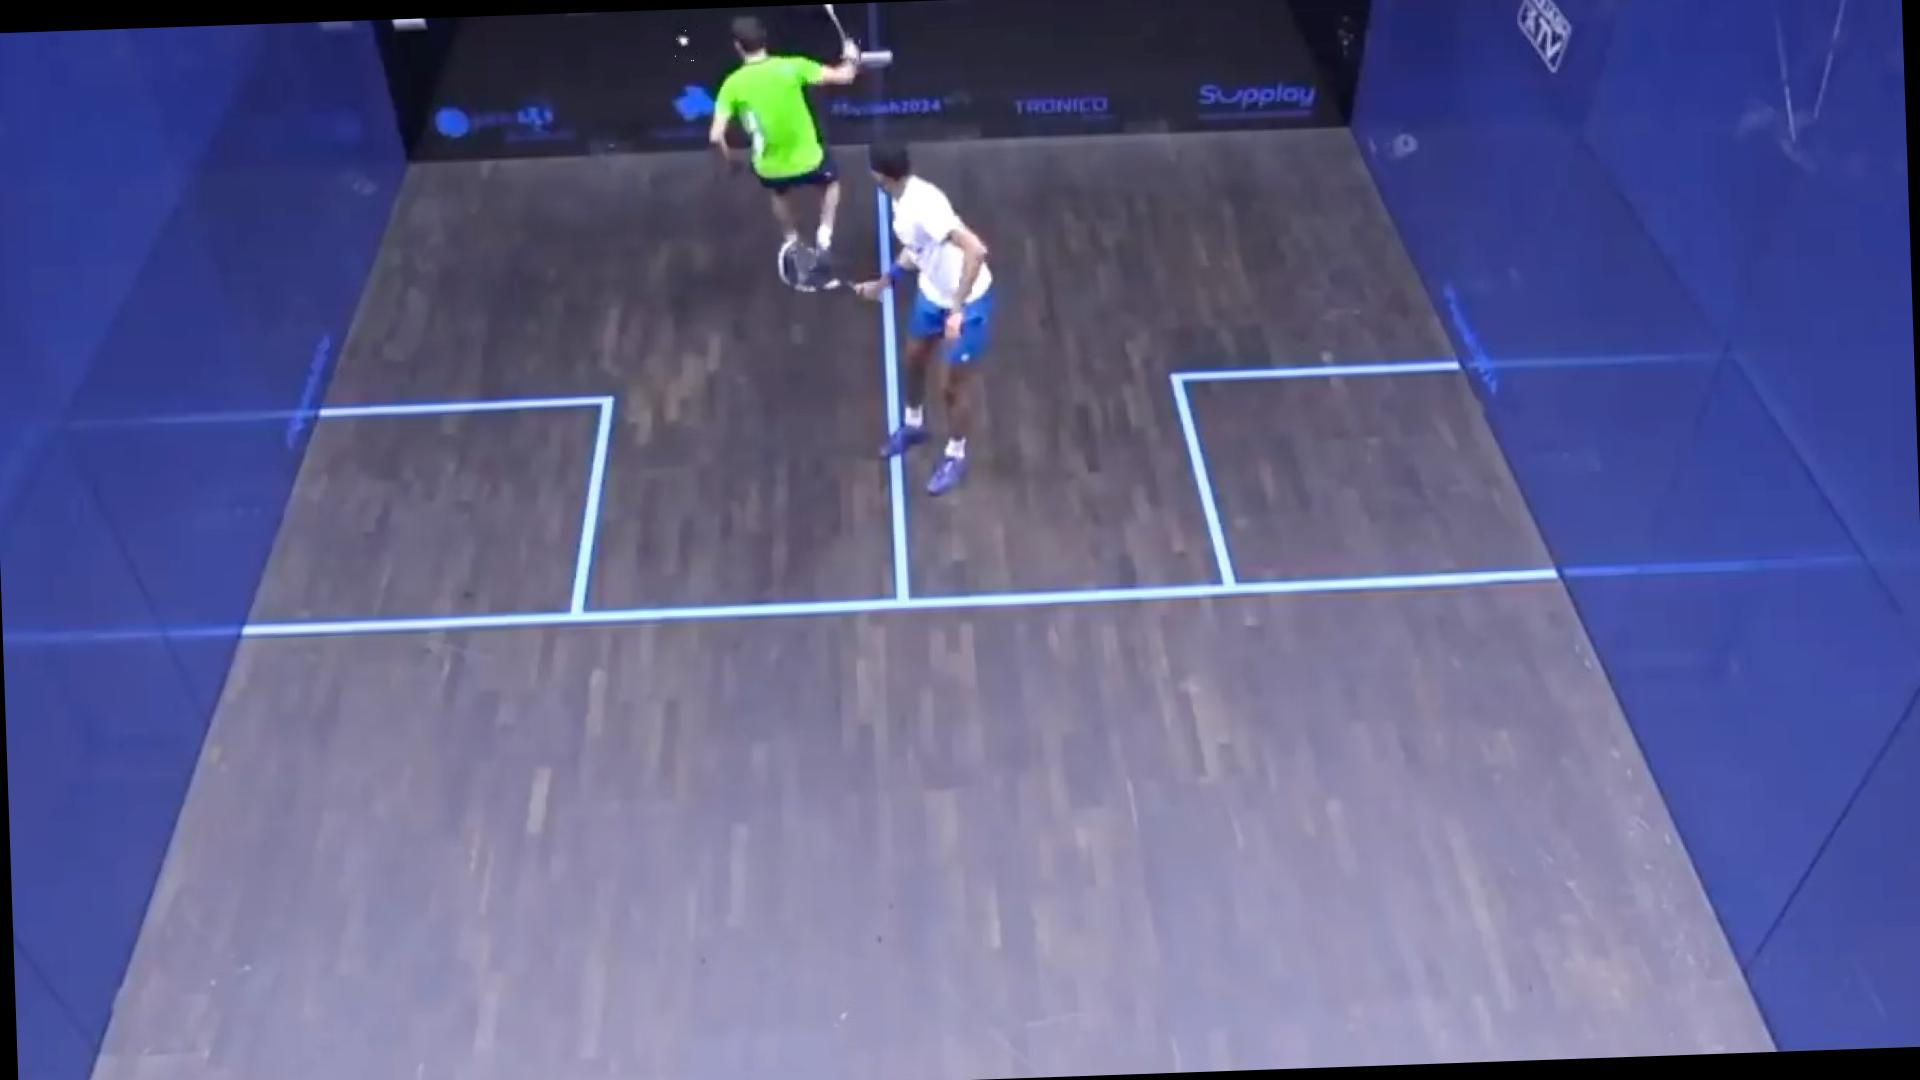Squash-Ball: (670, 26, 702, 65)
